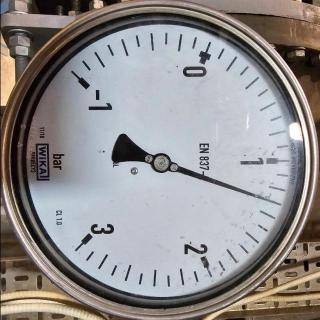gauge: (0, 0, 320, 320), (62, 66, 114, 112), (72, 221, 108, 251), (150, 152, 172, 174), (270, 198, 284, 208)
